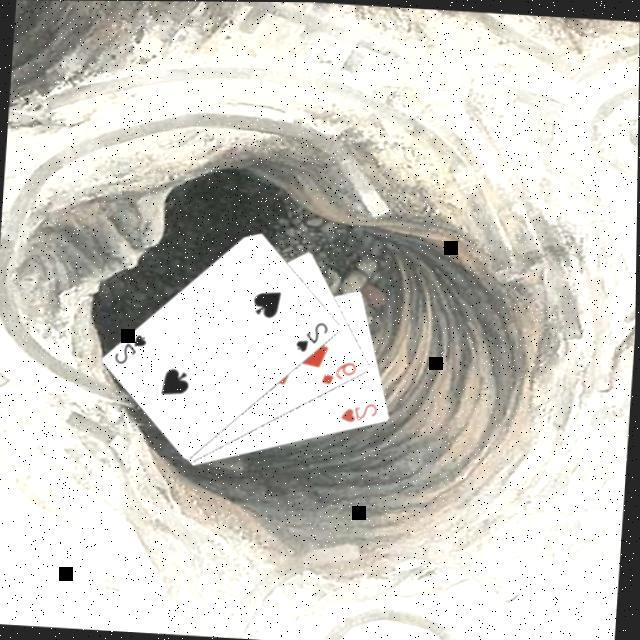2H: (340, 399, 385, 427)
2S: (113, 330, 153, 369), (295, 318, 334, 357)
9D: (321, 357, 363, 389)
